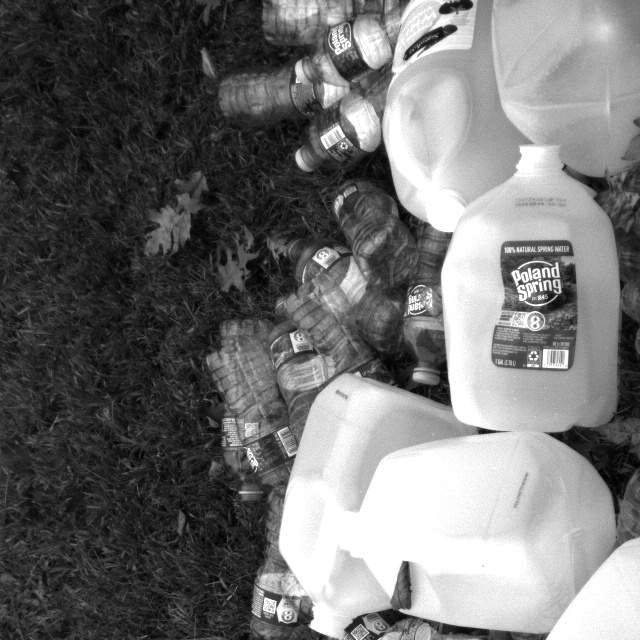bottle: (201, 357, 305, 505), (204, 322, 274, 510), (285, 67, 404, 173), (270, 287, 374, 392), (397, 218, 458, 389), (215, 57, 362, 126), (301, 17, 397, 84)
can: (439, 139, 633, 428), (341, 430, 614, 633), (273, 371, 472, 640), (376, 0, 540, 240), (490, 0, 640, 179), (512, 523, 640, 639)
